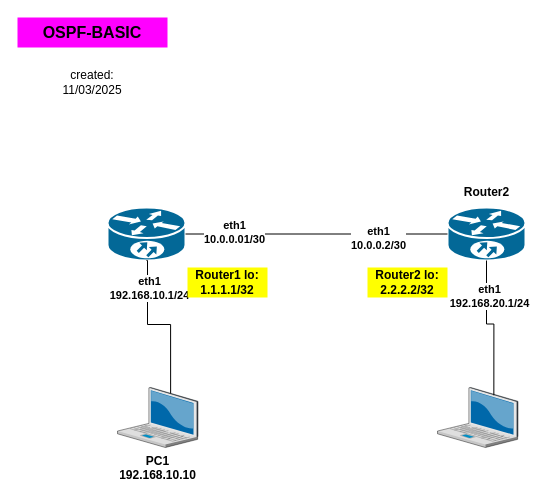
This 546x500 diagram has some shape labels left out. The shapes that lost their labels are listed below. From the top down, each one's box as (x1, y1, x2, y2) in pixels, then its label:
(106, 206, 186, 261): Router1
(437, 387, 518, 447): PC2 192.168.20.20
